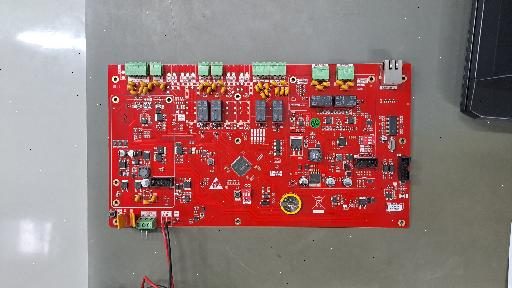var: (116, 213, 126, 229), (129, 212, 136, 227), (151, 193, 157, 203), (135, 194, 142, 202), (264, 82, 270, 90), (153, 80, 161, 86), (336, 80, 344, 86), (311, 80, 319, 86), (204, 81, 211, 87), (160, 83, 166, 90), (260, 92, 266, 99), (257, 83, 263, 90), (211, 83, 216, 91), (316, 85, 324, 90), (221, 86, 226, 94), (128, 81, 136, 86), (346, 81, 354, 86), (341, 85, 349, 90), (130, 90, 138, 95), (322, 82, 330, 87), (274, 87, 279, 95), (280, 80, 288, 85), (207, 87, 212, 94), (280, 88, 285, 95), (217, 81, 224, 86), (199, 83, 204, 90), (271, 81, 278, 86), (143, 87, 148, 94), (143, 200, 151, 204), (264, 90, 269, 96), (285, 88, 289, 95), (507, 0, 512, 3), (509, 0, 512, 4), (512, 0, 512, 123)
